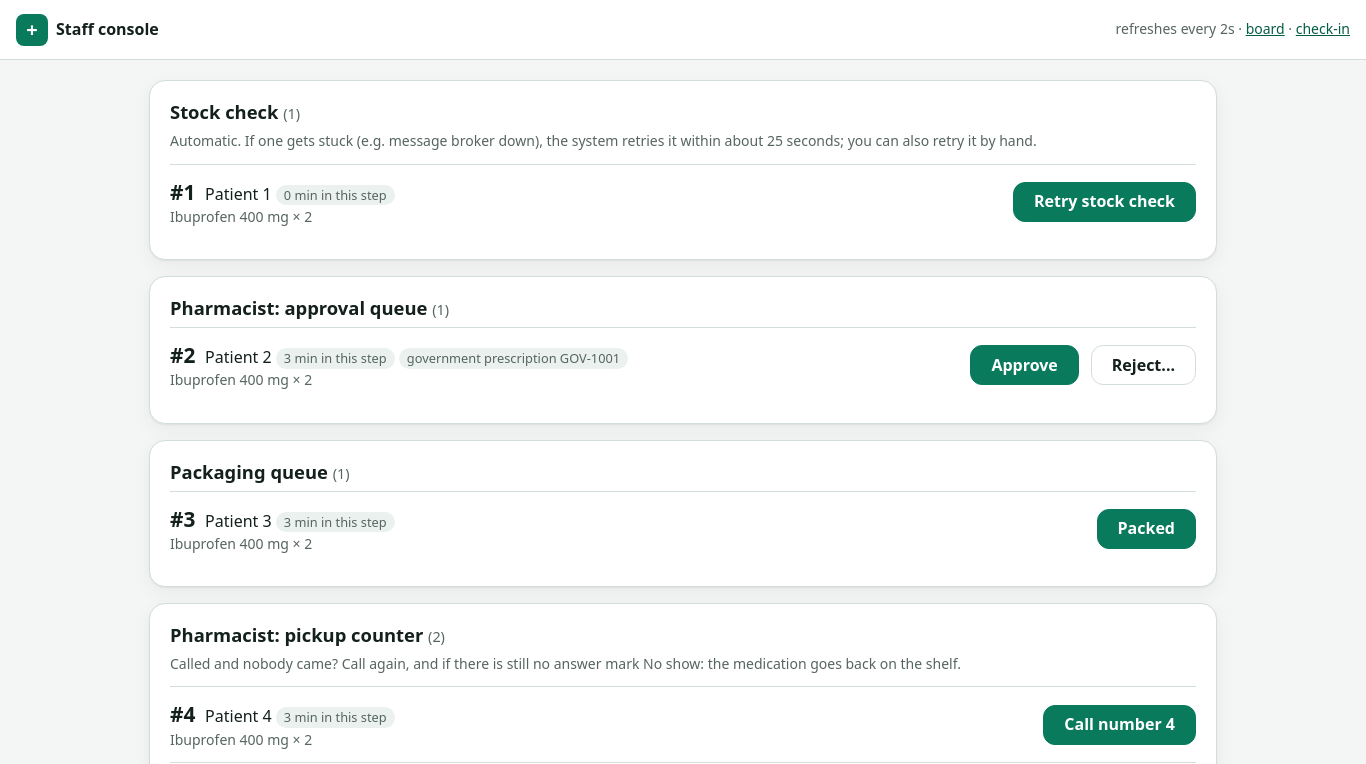
warnings › shows one banner, not two, when a step and the refresh fail the same way
Expected: the text "Patient 2" is shown, x1=201 y1=346 x2=276 y2=368
Click the button "Approve".
click(1025, 365)  # box x1=970 y1=345 x2=1079 y2=385
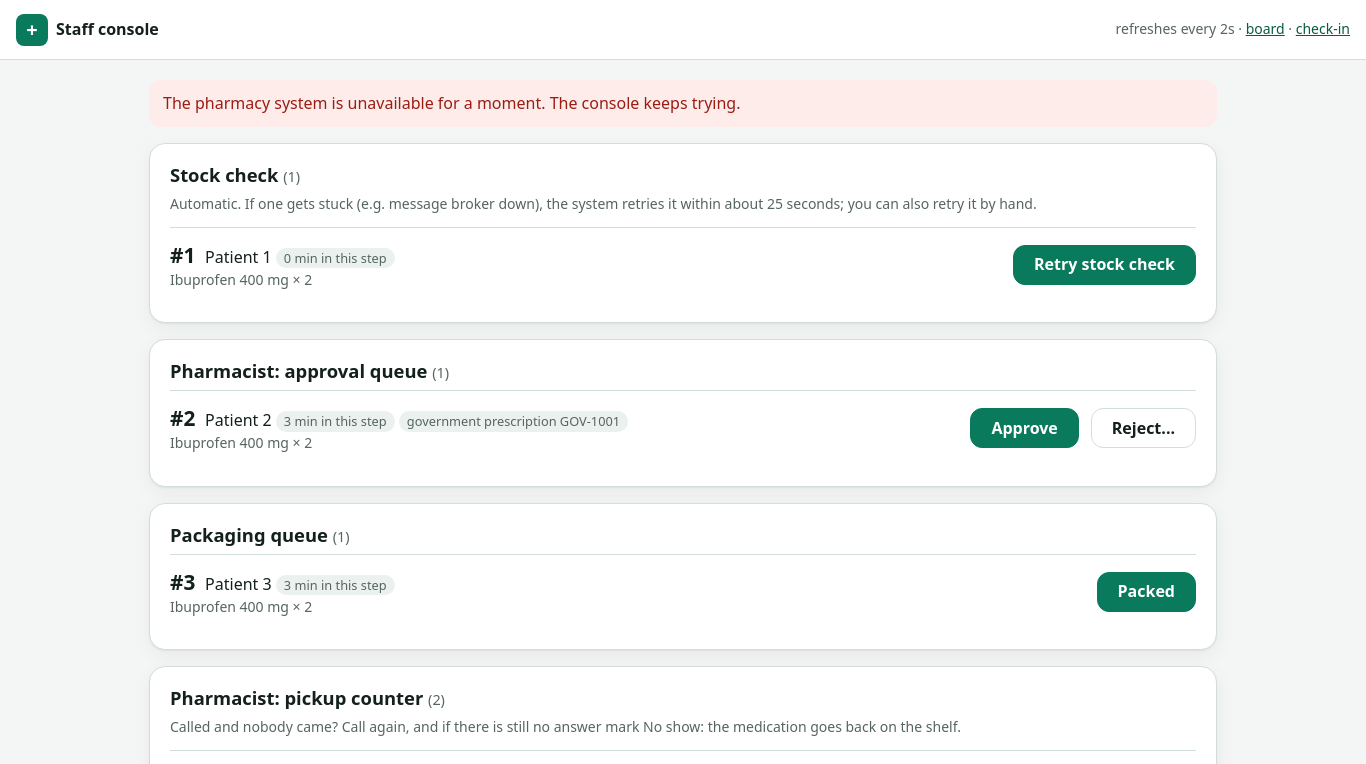
Expected: the number of messages is 1, x1=149 y1=80 x2=1217 y2=127
Expected: the message reads "The pharmacy system is unavailable for a moment. The console keeps trying.", x1=163 y1=92 x2=740 y2=114
